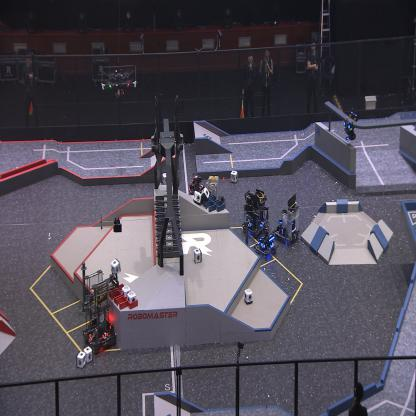car: (83, 272, 116, 356), (273, 195, 301, 246), (242, 187, 269, 239), (205, 174, 226, 212), (255, 228, 279, 260), (188, 174, 206, 199)
